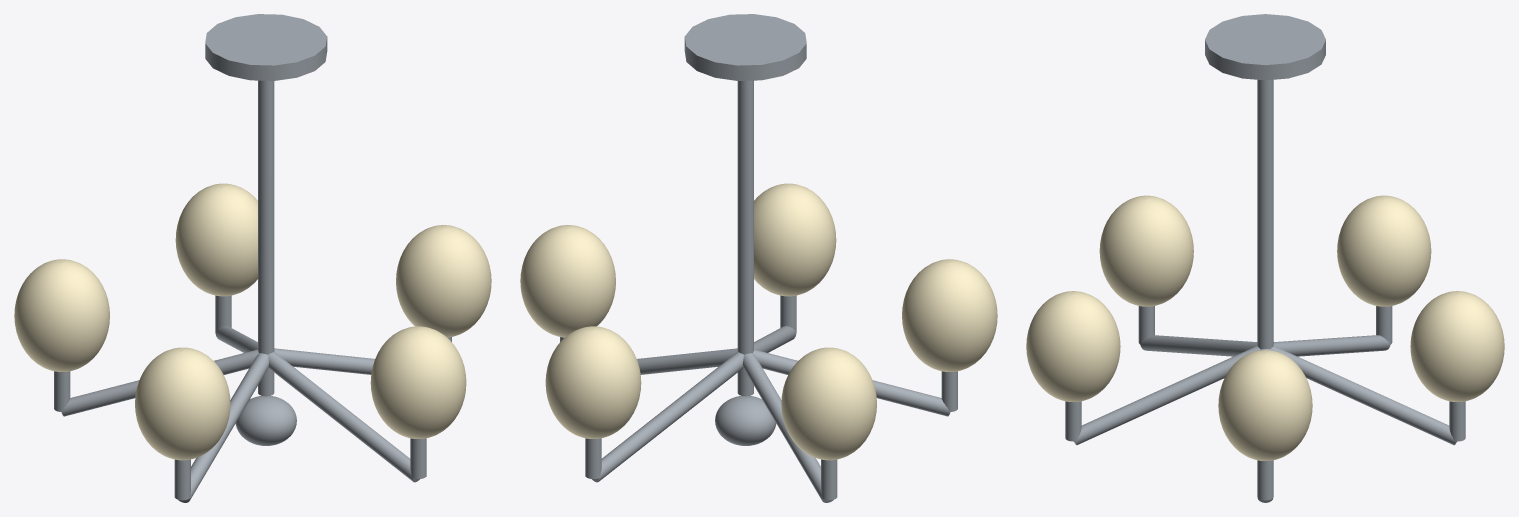
The model's file is Csillar_5_karu.obj.
The picture shows the model from 3 angles, left to right: view 1: azimuth 30°, elevation 25°; view 2: azimuth 150°, elevation 25°; view 3: azimuth 270°, elevation 25°; orthographic projection.
Size of the model in its own units: 0.6827 by 0.65 by 0.7106.
